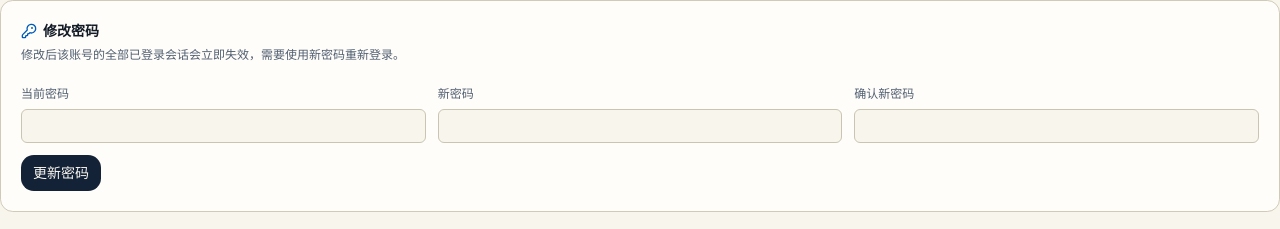
Test: 设置页修改密码表单 › 当前密码错误时展示 i18n 文案，不透出服务端 message
Step 1. Type "wrong-password" into the password field labelled "当前密码" → (223, 126), box [21,109,426,143]
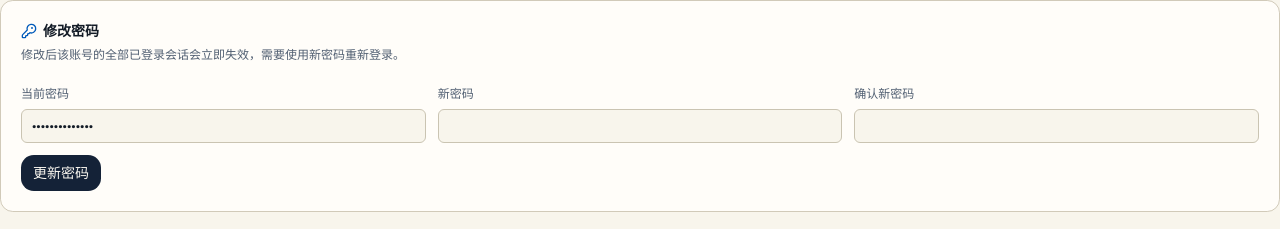
Step 2. Type "new-password-1" into the password field labelled "新密码" → (640, 126), box [438,109,842,143]
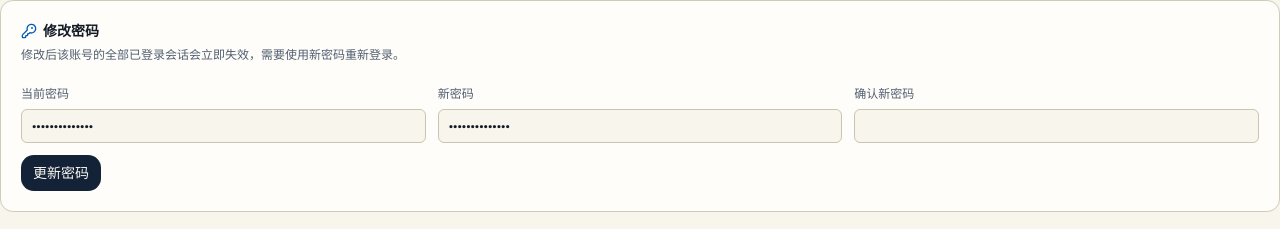
Step 3. Type "new-password-1" into the password field labelled "确认新密码" → (1057, 126), box [854,109,1259,143]
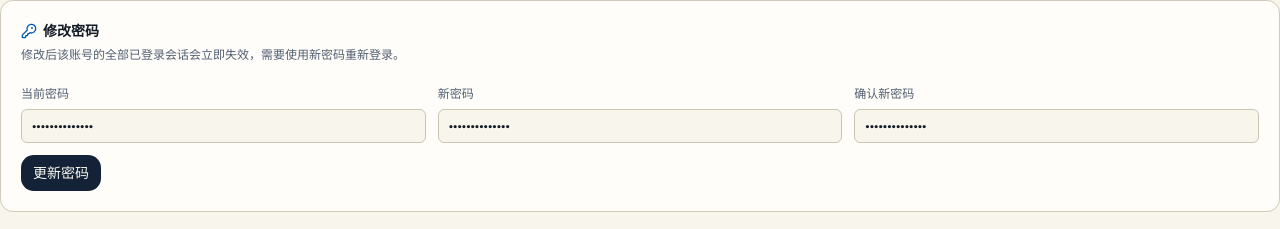
Step 4. Click the button "更新密码" → click(61, 173), box [21,155,101,191]
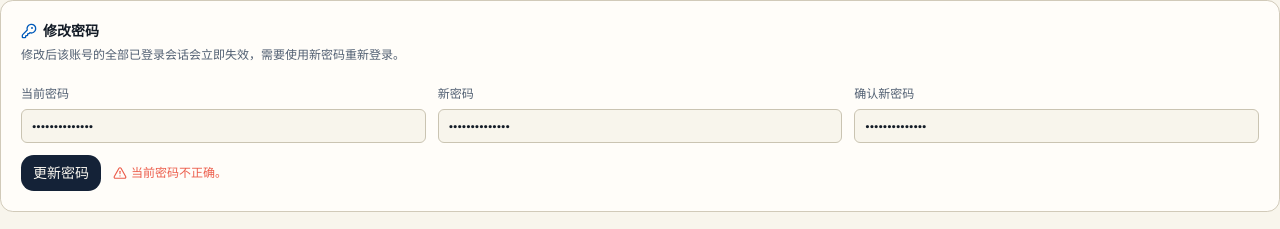
Result: the text "当前密码不正确。" is shown at [113,165,227,181]
